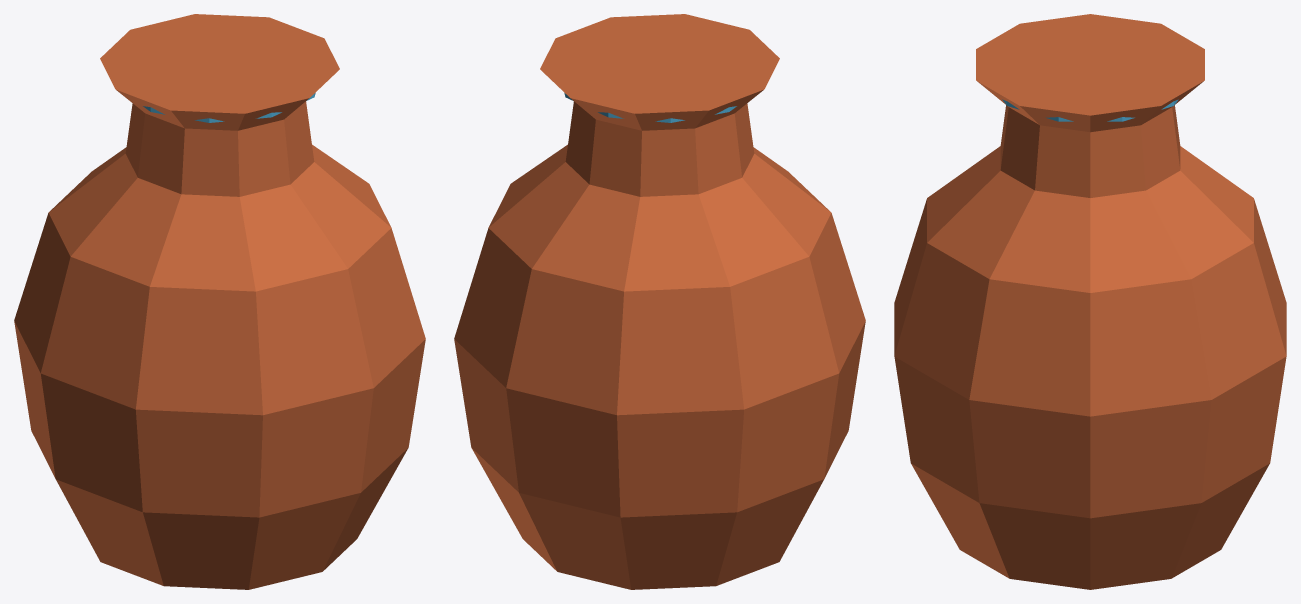
File: jarre.glb
3 renders of one model, left to right at view 1: azimuth 30°, elevation 25°; view 2: azimuth 150°, elevation 25°; view 3: azimuth 270°, elevation 25°, orthographic.
Parts seen in each view (by area): view 1: jarre; view 2: jarre; view 3: jarre.
Boxes of the visible parts, x1,y1,x2,y2 form: jarre: (14,14,425,589); jarre: (454,14,865,589); jarre: (894,14,1286,589).
Bounding box in the file's own units: 0.48 × 0.6 × 0.4565.
